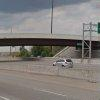Bridge: (2, 27, 95, 55)
